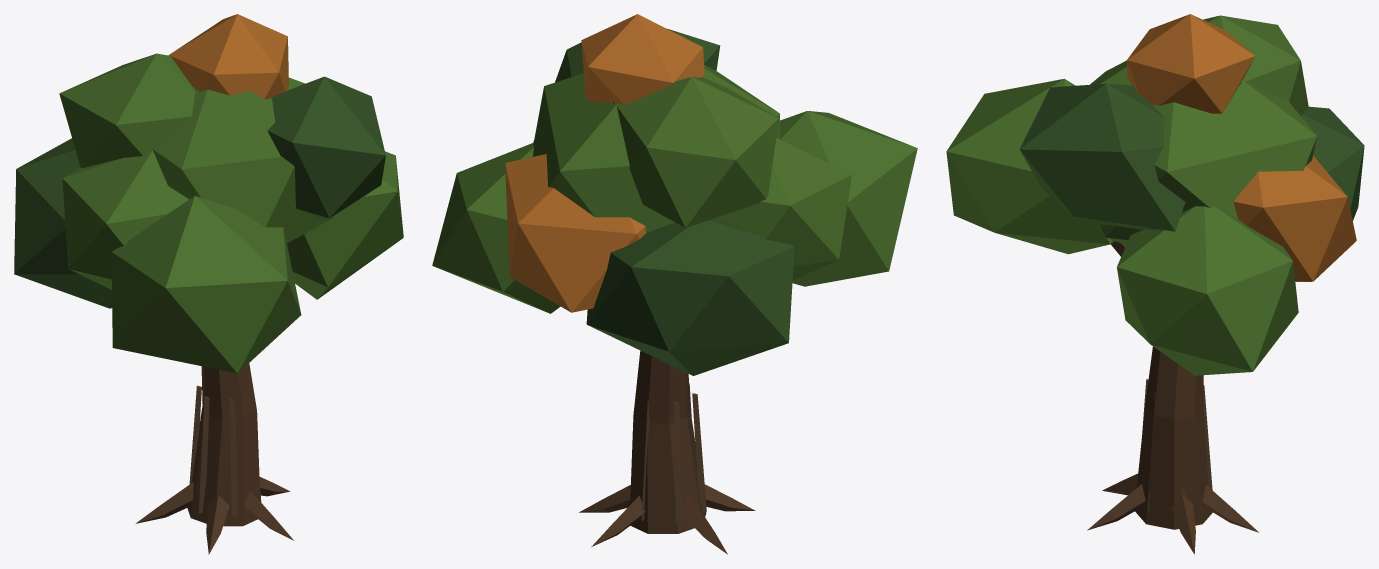
File: tree_oak.glb
3 views of the same model, side by side, from view 1: azimuth 30°, elevation 25°; view 2: azimuth 150°, elevation 25°; view 3: azimuth 270°, elevation 25° (orthographic). The views are drawn at different scales.
Visible parts, largest first — view 1: tree_oak; view 2: tree_oak; view 3: tree_oak.
Boxes of the visible parts, x1=… form: tree_oak: x1=14, y1=14, x2=403, y2=554; tree_oak: x1=432, y1=14, x2=917, y2=554; tree_oak: x1=946, y1=14, x2=1364, y2=554.
Size of the model in its own units: 3.6 by 4.81 by 3.55.
